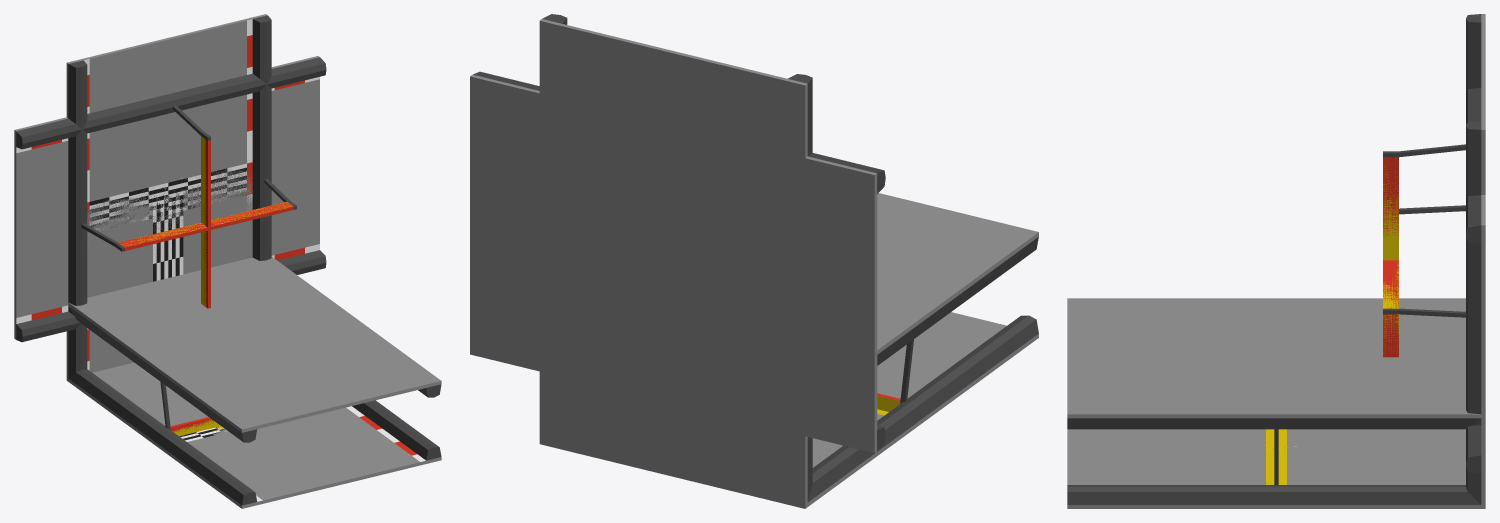
File: specialBlocks.glb
3 renders of one model, left to right at view 1: azimuth 30°, elevation 25°; view 2: azimuth 150°, elevation 25°; view 3: azimuth 270°, elevation 25°, orthographic. The views are drawn at different scales.
Visible parts, largest first — view 1: WallFinish, VerticalFinish, UpsideDownFinish, BarlessCheckpoint, BarlessFinish, UpsideDownCheckpoint, VerticalCheckpoint, WallCheckpoint; view 2: VerticalCheckpoint, WallCheckpoint, UpsideDownFinish, BarlessCheckpoint, UpsideDownCheckpoint, WallFinish, VerticalFinish, BarlessFinish; view 3: UpsideDownFinish, BarlessCheckpoint, VerticalFinish, UpsideDownCheckpoint, WallFinish, BarlessFinish, WallCheckpoint, VerticalCheckpoint.
Part boxes in pixels (bbox=[...]): WallFinish: bbox=[14, 56, 326, 342]; VerticalFinish: bbox=[66, 14, 296, 381]; UpsideDownFinish: bbox=[68, 257, 441, 442]; BarlessCheckpoint: bbox=[66, 362, 441, 508]; BarlessFinish: bbox=[122, 378, 357, 499]; UpsideDownCheckpoint: bbox=[68, 306, 441, 442]; VerticalCheckpoint: bbox=[67, 14, 296, 247]; WallCheckpoint: bbox=[14, 106, 207, 341]; VerticalCheckpoint: bbox=[539, 14, 808, 508]; WallCheckpoint: bbox=[470, 76, 880, 452]; UpsideDownFinish: bbox=[877, 193, 1038, 402]; BarlessCheckpoint: bbox=[806, 312, 1038, 506]; UpsideDownCheckpoint: bbox=[877, 237, 1038, 411]; WallFinish: bbox=[470, 71, 885, 452]; VerticalFinish: bbox=[540, 14, 812, 508]; BarlessFinish: bbox=[812, 327, 1002, 466]; UpsideDownFinish: bbox=[1067, 298, 1479, 418]; BarlessCheckpoint: bbox=[1067, 429, 1485, 508]; VerticalFinish: bbox=[1383, 14, 1485, 504]; UpsideDownCheckpoint: bbox=[1067, 414, 1481, 485]; WallFinish: bbox=[1383, 88, 1485, 474]; BarlessFinish: bbox=[1113, 429, 1459, 484]; WallCheckpoint: bbox=[1383, 146, 1485, 473]; VerticalCheckpoint: bbox=[1383, 14, 1485, 508].
Bounding box in the file's own units: 20 × 20.01 × 20.01.
